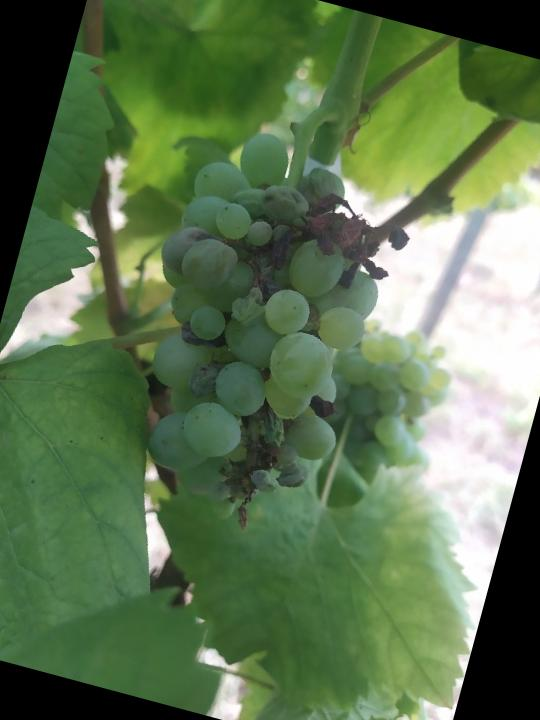grape: (95, 113, 427, 556)
